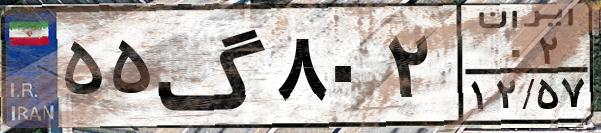0: (330, 28, 385, 110), (508, 27, 537, 80)
1: (470, 70, 495, 125)
2: (385, 28, 445, 110), (537, 27, 568, 80), (495, 70, 520, 125)
5: (57, 26, 110, 100), (110, 28, 156, 98), (535, 70, 560, 125)
7: (560, 70, 590, 125)
8: (270, 28, 330, 110)
گ: (156, 12, 270, 120)
